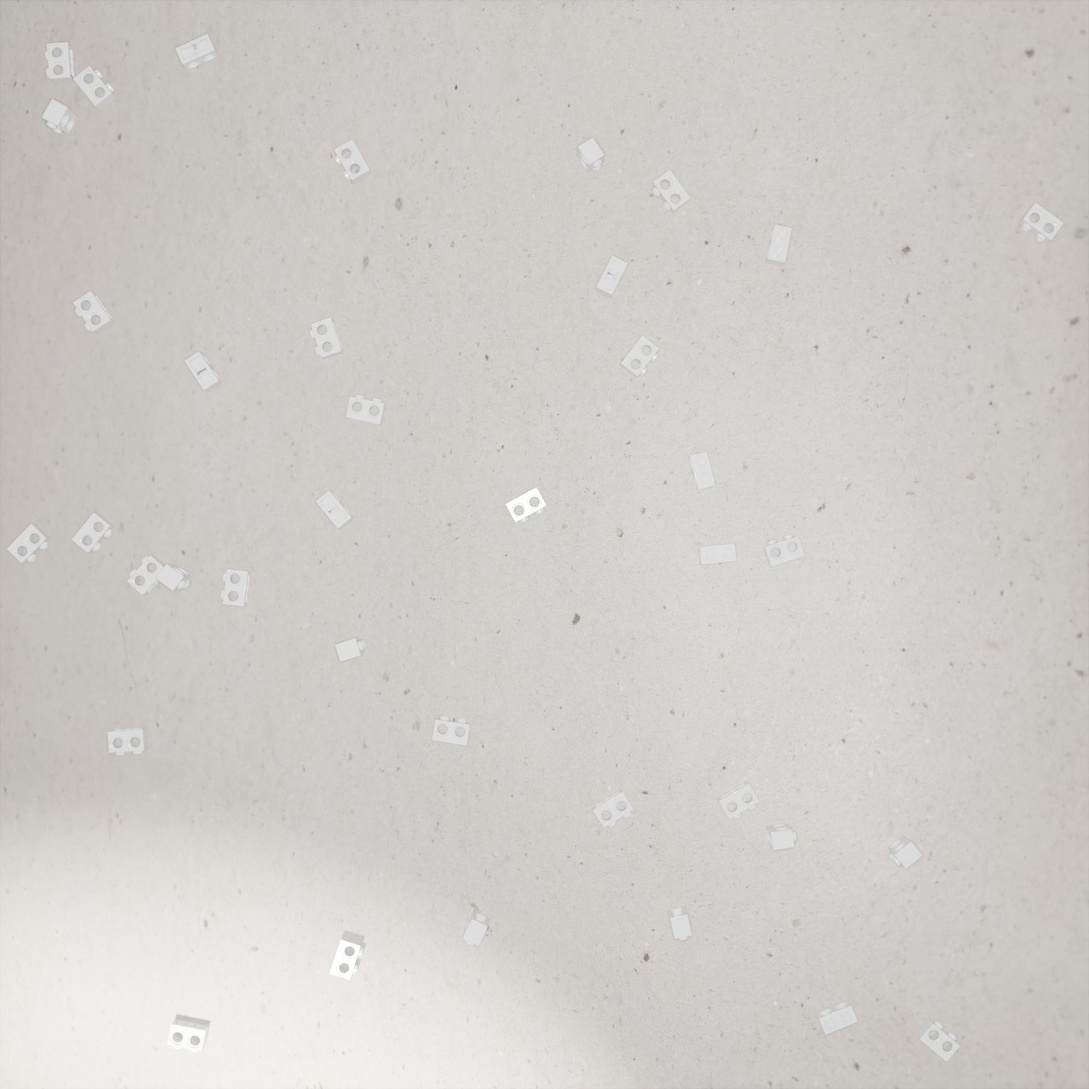lego: (915, 1018, 960, 1062), (73, 65, 116, 111), (1018, 202, 1064, 243), (73, 291, 115, 334), (71, 512, 115, 553), (651, 169, 691, 214), (6, 524, 52, 563), (127, 555, 170, 595), (334, 139, 372, 184), (717, 781, 760, 820), (620, 335, 659, 378), (175, 33, 219, 71), (592, 789, 634, 828), (184, 351, 223, 392), (329, 935, 364, 980), (815, 999, 858, 1035), (315, 490, 354, 529), (505, 487, 546, 524), (309, 317, 344, 360), (167, 1019, 209, 1053), (763, 533, 805, 567), (596, 255, 628, 298), (345, 394, 386, 426), (45, 42, 76, 84), (42, 99, 78, 135), (887, 835, 923, 869), (432, 715, 471, 746), (107, 727, 148, 756), (765, 224, 792, 266), (688, 451, 716, 491), (221, 569, 251, 606), (156, 563, 192, 591), (577, 137, 604, 173), (463, 911, 489, 946), (698, 543, 737, 565), (667, 906, 692, 940), (766, 823, 797, 850), (335, 636, 366, 662)
